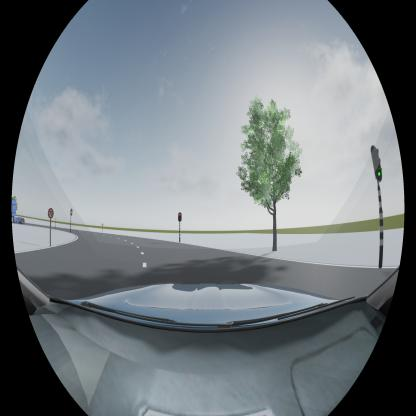Speed Limit 70: (48, 208, 54, 218)
